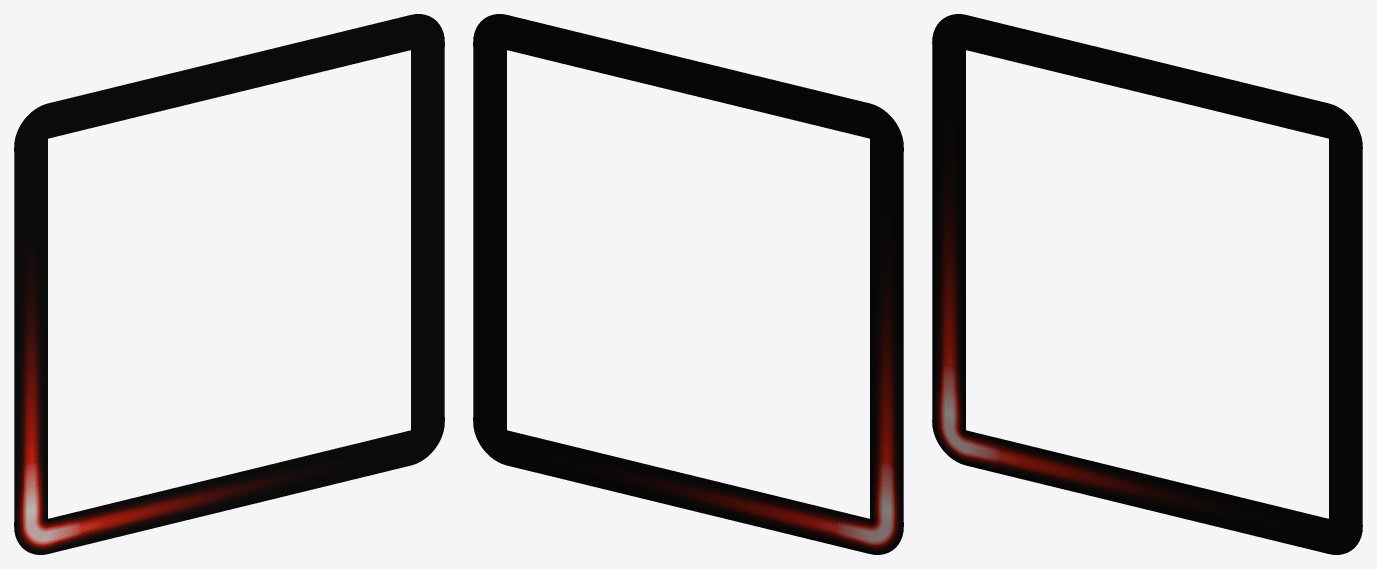
The model's file is ui_eff_0094_biankuang2.FBX.
3 views of the same model, side by side, from view 1: azimuth 30°, elevation 25°; view 2: azimuth 150°, elevation 25°; view 3: azimuth 330°, elevation 25° (orthographic).
Parts seen in each view (by area): view 1: ui_eff_0094_biankuang2; view 2: ui_eff_0094_biankuang2; view 3: ui_eff_0094_biankuang2.
Part boxes in pixels (x1=…): ui_eff_0094_biankuang2: x1=14, y1=14, x2=444, y2=554; ui_eff_0094_biankuang2: x1=473, y1=14, x2=903, y2=554; ui_eff_0094_biankuang2: x1=932, y1=14, x2=1362, y2=554.
Bounding box in the file's own units: 42.68 × 42.68 × 6.77e-06.
Materials: 1 (1 with a texture image).
